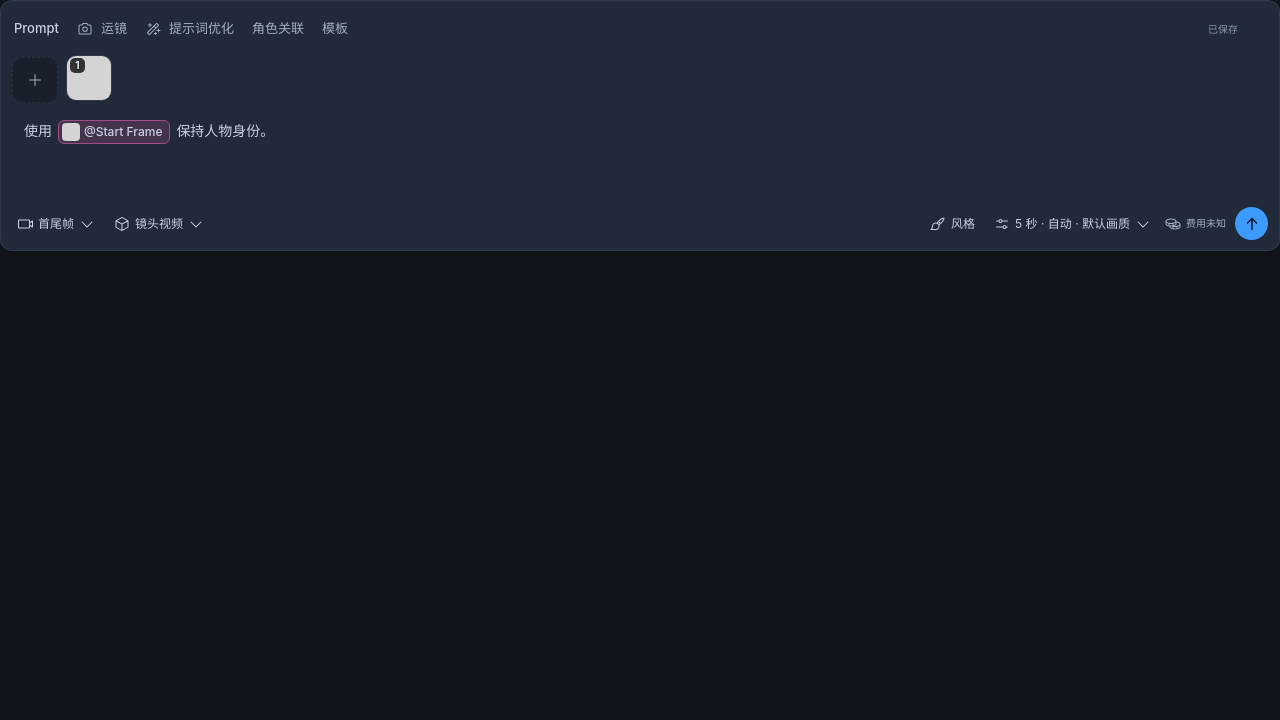
Test: MediaDraftEditor › appends camera direction while preserving the current prompt, mentions, fixed references and autosave CAS
Click the button "运镜": x=102, y=29 x1=77 y1=11 x2=127 y2=47
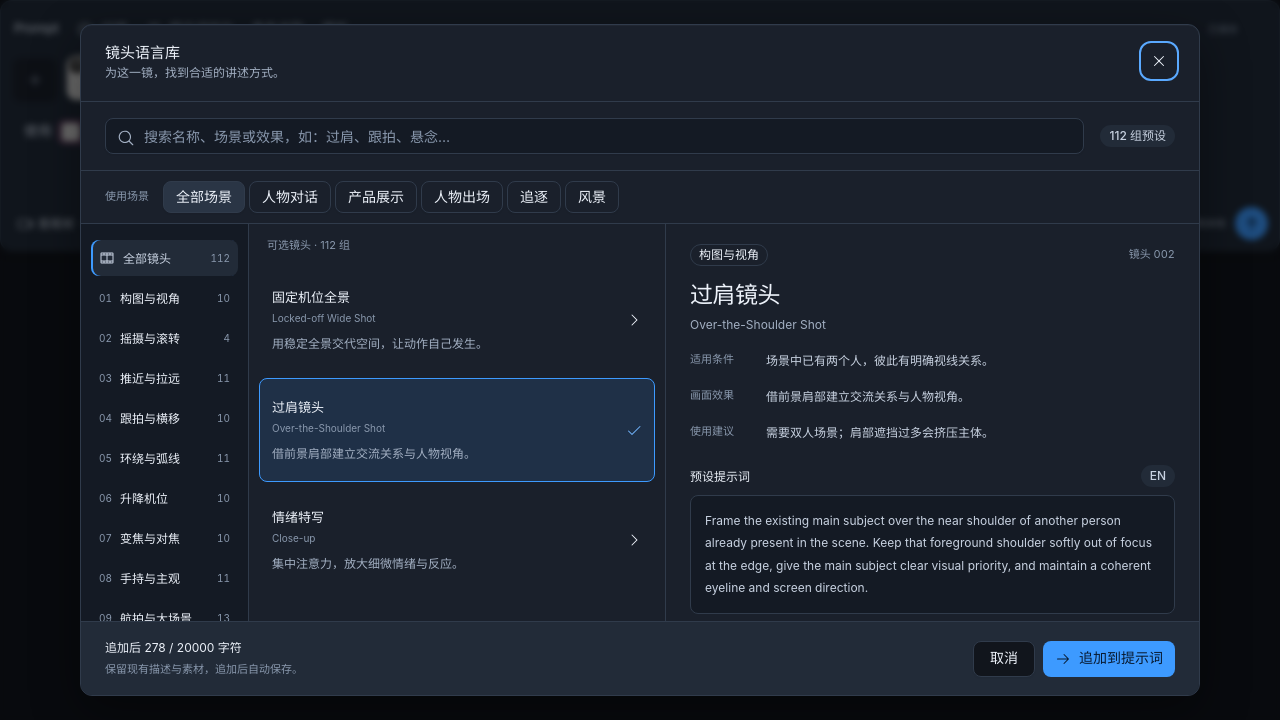
Click the button "追加到提示词": x=1109, y=659 x1=1043 y1=641 x2=1175 y2=677
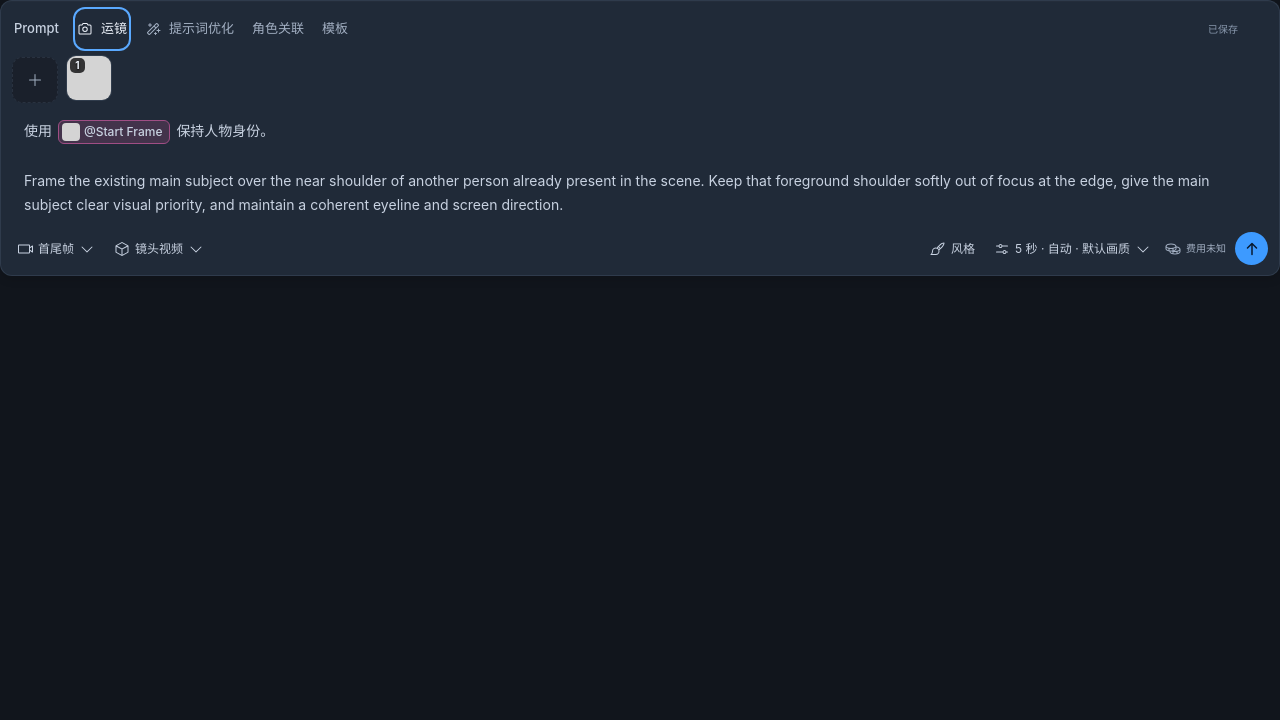
Expected: the heading "镜头语言库" is gone
Expected: the field named "视频提示词" shows "Frame the existing main subject over the near shoulder of another person already present in the scene. Keep that foreground shoulder softly out of focus at the", x1=12 y1=111 x2=1268 y2=226
